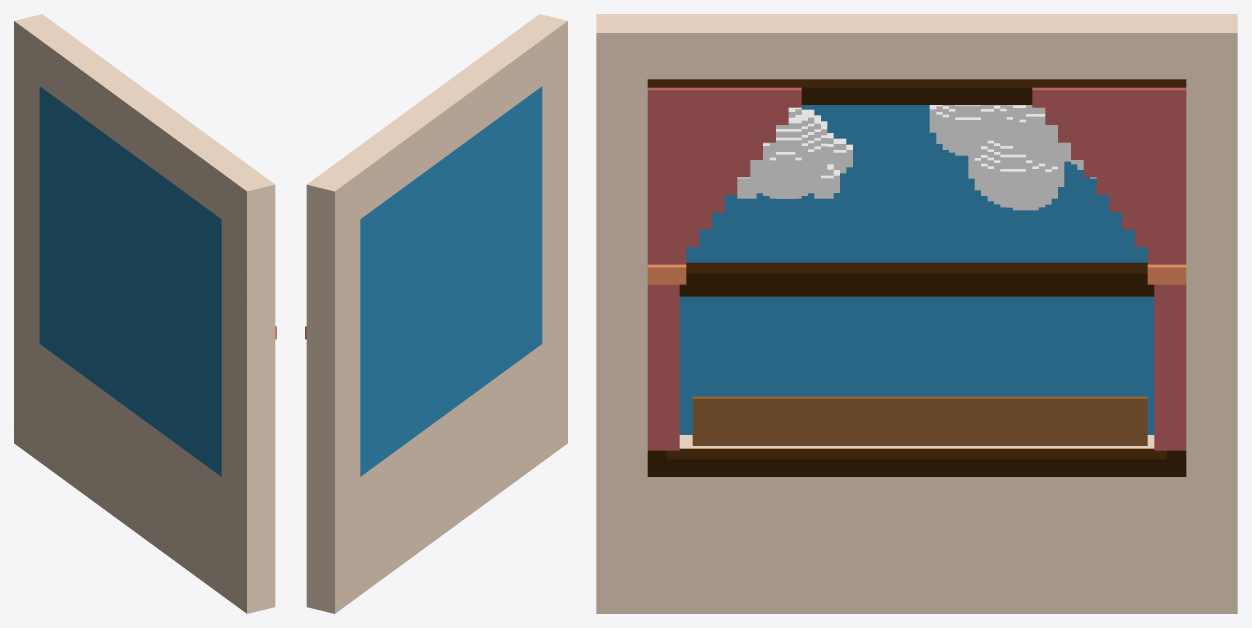
The model's file is CuteWindowWall.obj.
The picture shows the model from 3 angles, left to right: view 1: azimuth 30°, elevation 25°; view 2: azimuth 150°, elevation 25°; view 3: azimuth 270°, elevation 25°; orthographic projection. The views are drawn at different scales.
Visible parts, largest first — view 1: CuteWindowWall; view 2: CuteWindowWall; view 3: CuteWindowWall.
Boxes of the visible parts, box(x1,y1,x2,y2) form: CuteWindowWall: box(14, 14, 276, 613); CuteWindowWall: box(305, 14, 567, 613); CuteWindowWall: box(596, 14, 1237, 613).
Size of the model in its own units: 12 by 100 by 100.
1 material, 1 textured.
